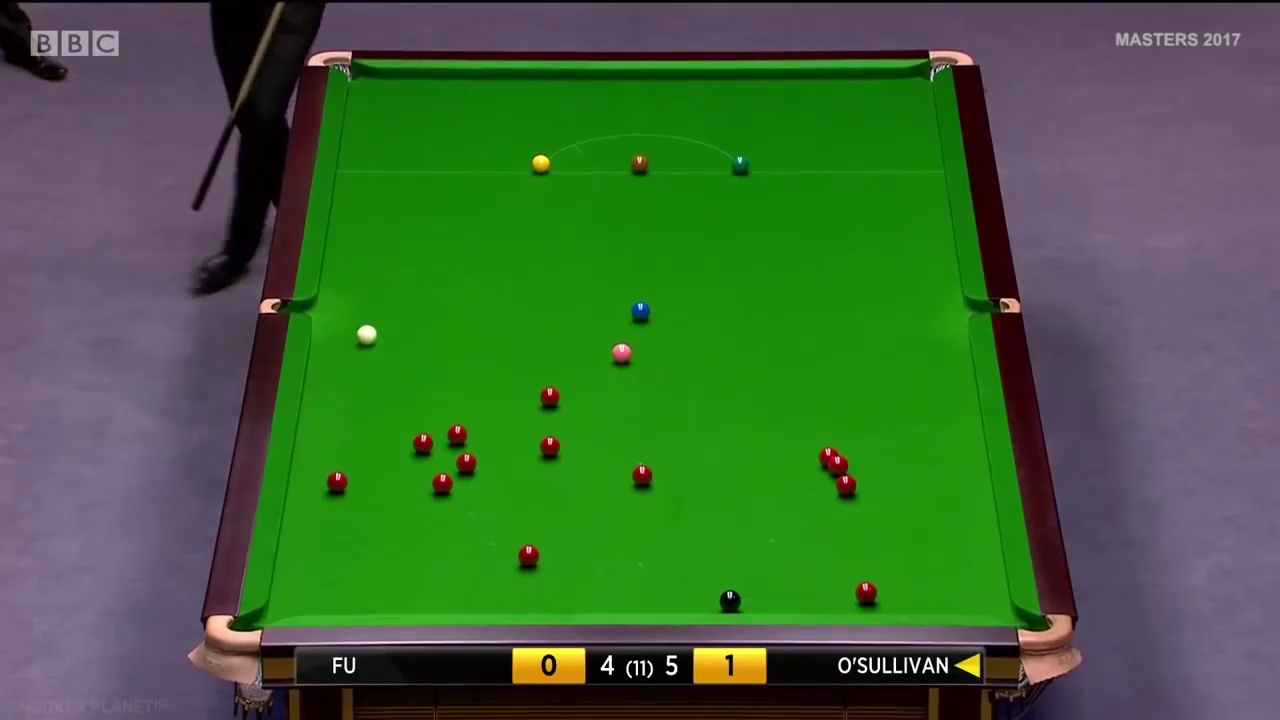ball: (517, 543, 541, 568), (632, 461, 654, 488), (354, 324, 377, 349), (630, 300, 655, 323), (608, 344, 636, 364), (855, 580, 877, 605), (447, 423, 468, 447), (730, 154, 751, 177), (326, 471, 347, 494), (837, 474, 858, 497), (411, 432, 433, 453), (629, 152, 649, 175), (538, 385, 560, 405), (540, 434, 559, 457), (433, 472, 451, 495), (531, 154, 551, 173), (456, 452, 476, 471)
